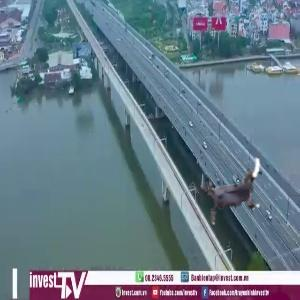drone: (194, 153, 275, 234)
